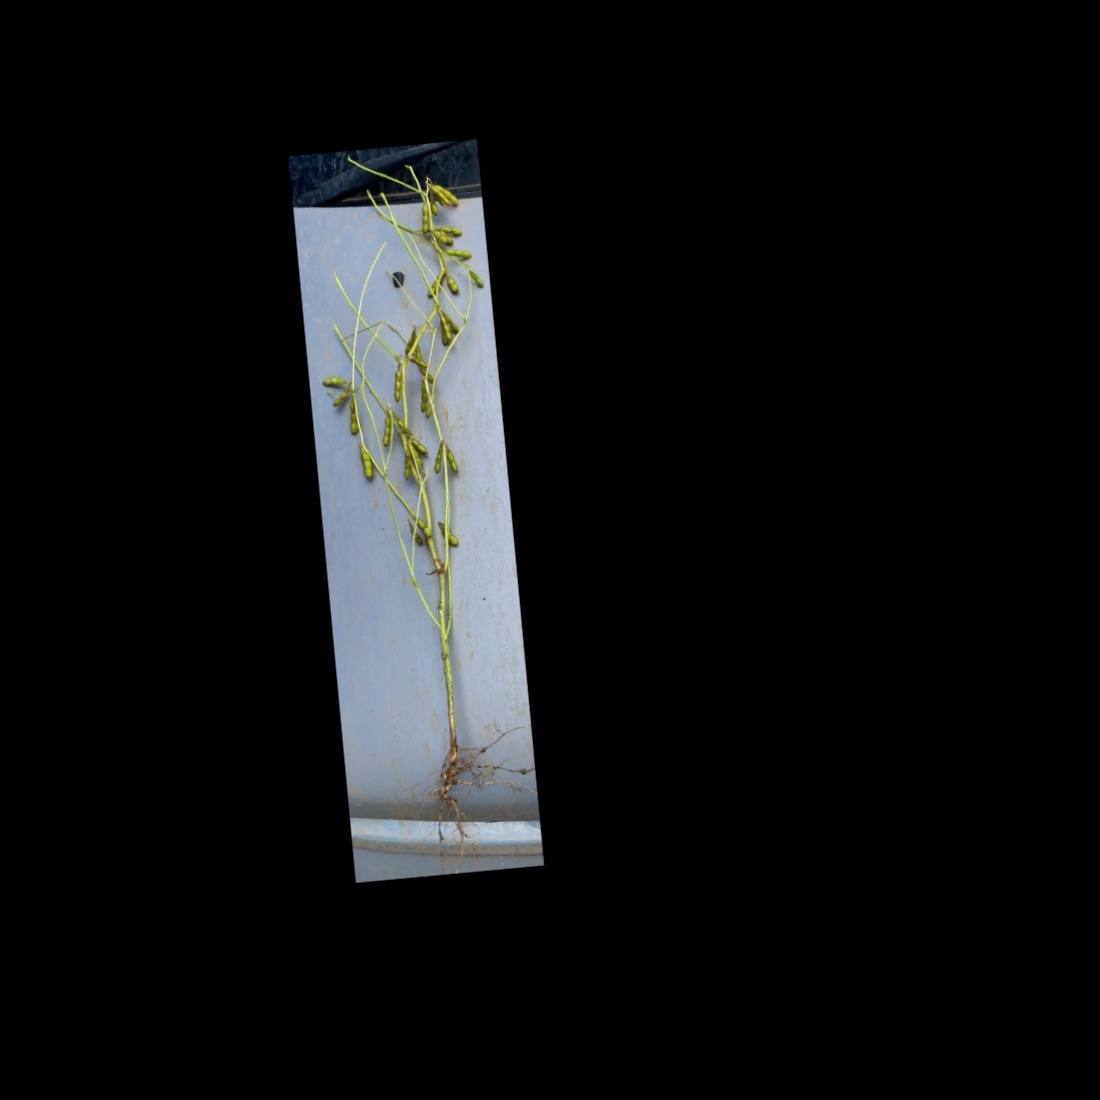pod: (387, 363, 406, 405), (355, 440, 374, 482), (437, 517, 461, 549), (328, 382, 352, 409), (343, 399, 360, 437), (399, 446, 415, 484), (414, 380, 430, 416), (441, 245, 473, 263), (378, 414, 393, 450), (320, 369, 348, 389), (443, 446, 461, 475), (416, 202, 431, 236), (415, 515, 434, 540), (430, 445, 444, 477), (444, 271, 461, 295), (467, 265, 483, 291), (427, 190, 440, 218)
soy: (299, 157, 531, 819)
